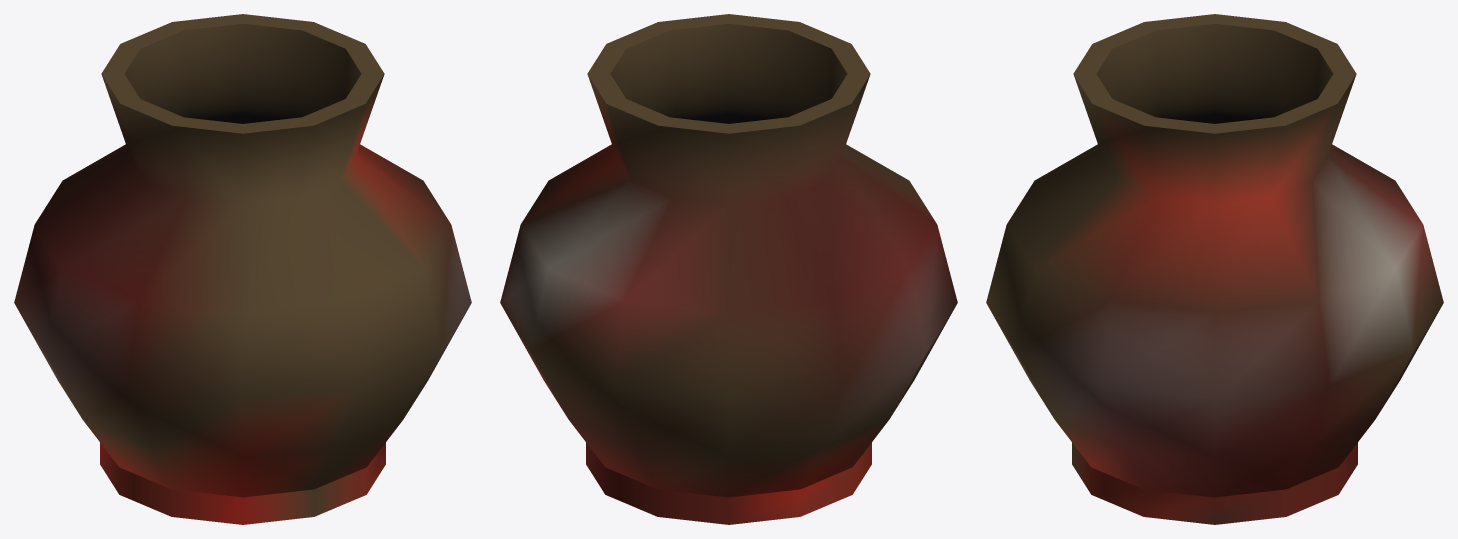
File: lib-pot-short-a.fbx
The picture shows the model from 3 angles, left to right: view 1: azimuth 30°, elevation 25°; view 2: azimuth 150°, elevation 25°; view 3: azimuth 270°, elevation 25°; orthographic projection.
Visible parts, largest first — view 1: pCylinder11; view 2: pCylinder11; view 3: pCylinder11.
Part boxes in pixels (box(x1,y1,x2,y2)): pCylinder11: box(14, 14, 471, 524); pCylinder11: box(500, 14, 957, 524); pCylinder11: box(986, 14, 1443, 524).
Size of the model in its own units: 1.09 by 1.02 by 1.09.
